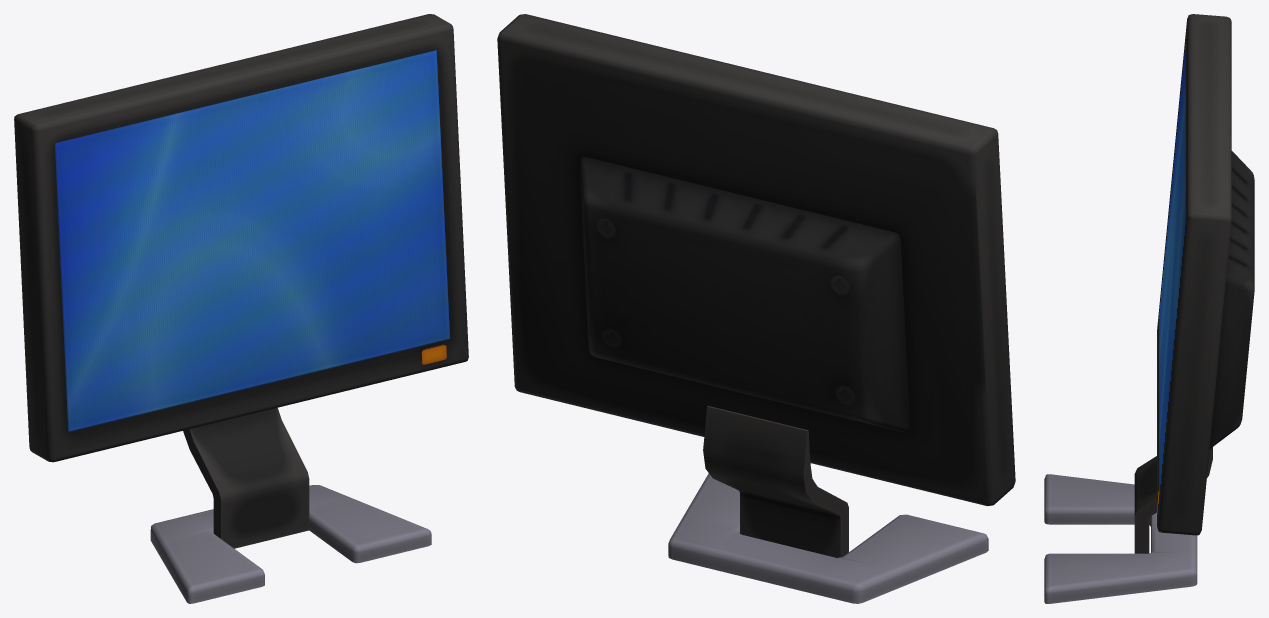
The model's file is OfficeComputer01_2.FBX.
3 renders of one model, left to right at view 1: azimuth 30°, elevation 25°; view 2: azimuth 150°, elevation 25°; view 3: azimuth 270°, elevation 25°, orthographic. The views are drawn at different scales.
Visible parts, largest first — view 1: OfficeComputer01_2; view 2: OfficeComputer01_2; view 3: OfficeComputer01_2.
Boxes of the visible parts, box(x1,y1,x2,y2) form: OfficeComputer01_2: box(14, 14, 468, 603); OfficeComputer01_2: box(497, 14, 1015, 603); OfficeComputer01_2: box(1044, 14, 1254, 603).
Size of what is drawn, in the model's own units: 0.595 by 0.6001 by 0.2621.
